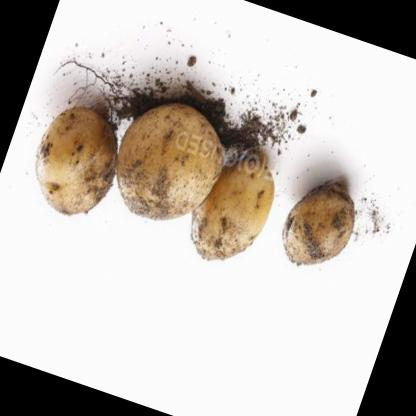potato: (98, 86, 239, 239), (18, 94, 134, 228), (177, 140, 286, 276), (272, 167, 368, 281)
